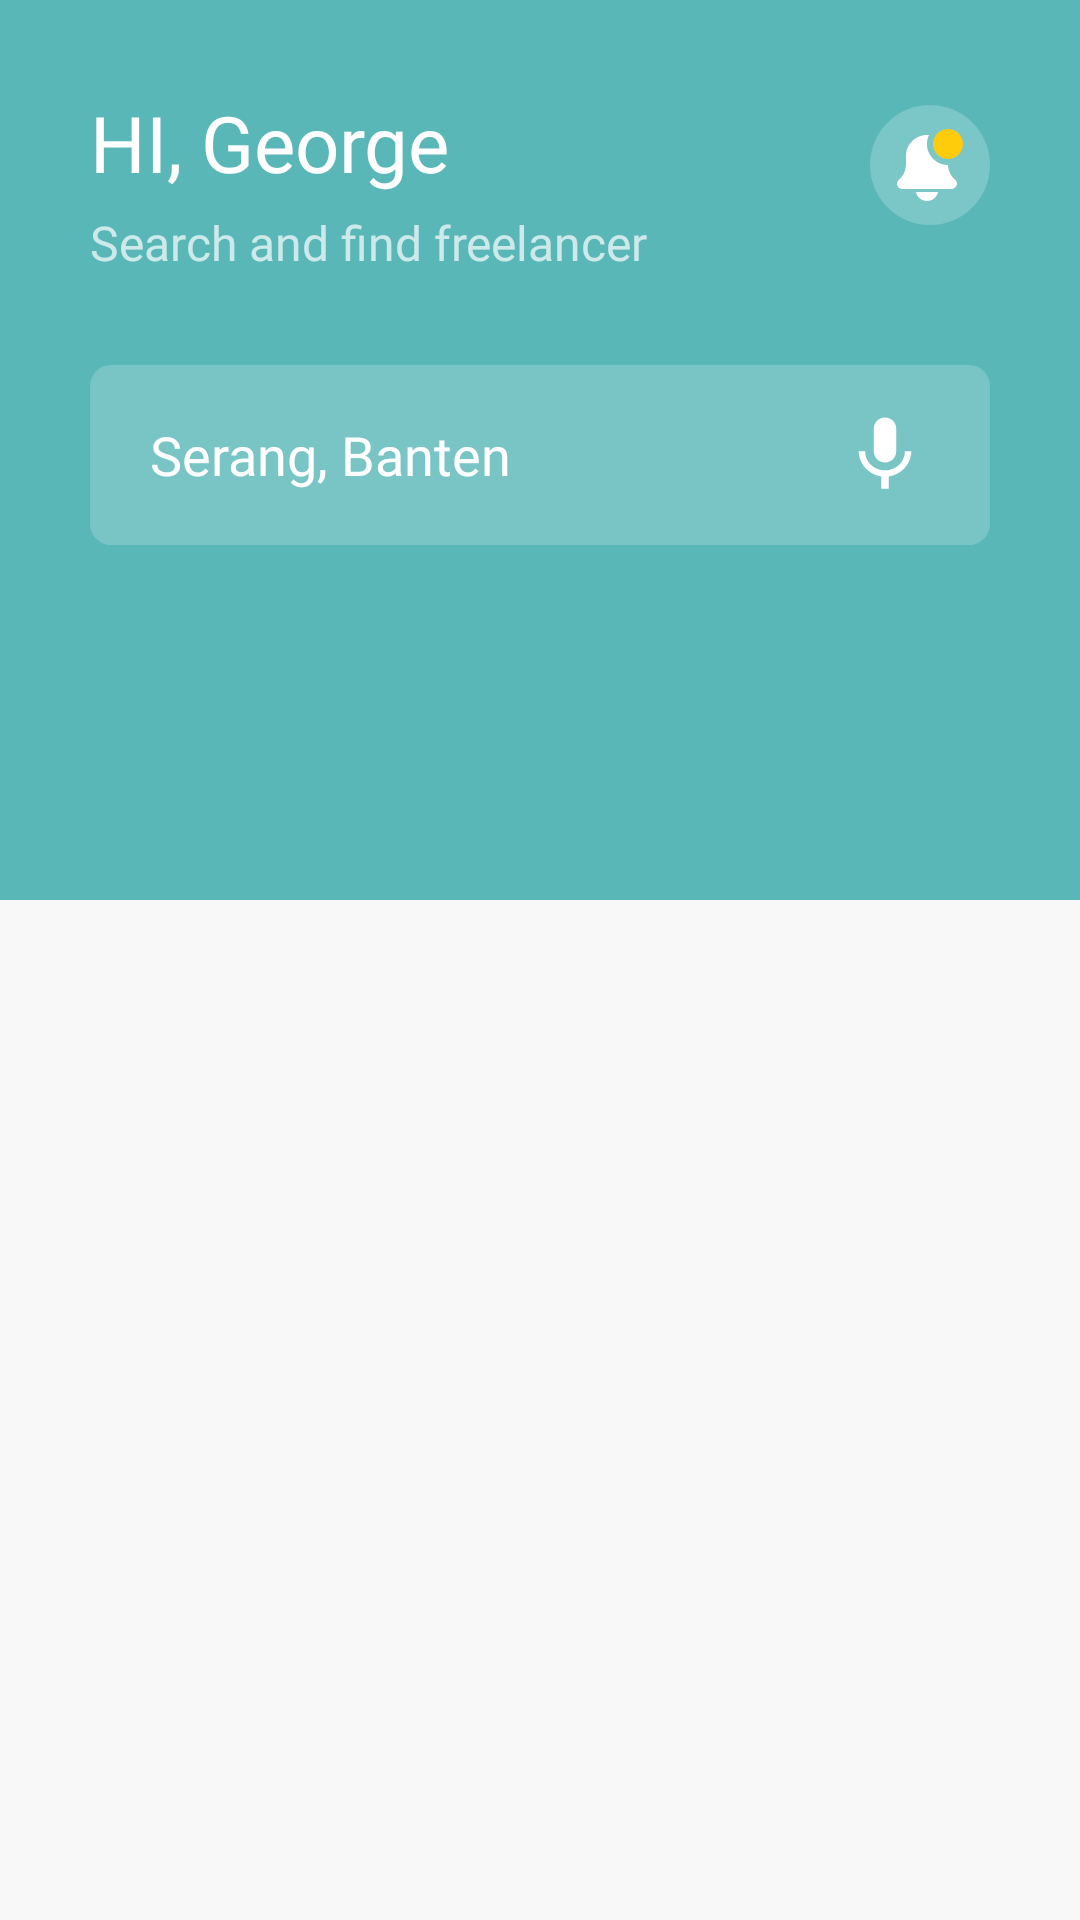

Named icons in this screenshot (1080*1920) and their bounding boxes, (x1, y1, x2, y2):
notification: (870, 105, 990, 225)
